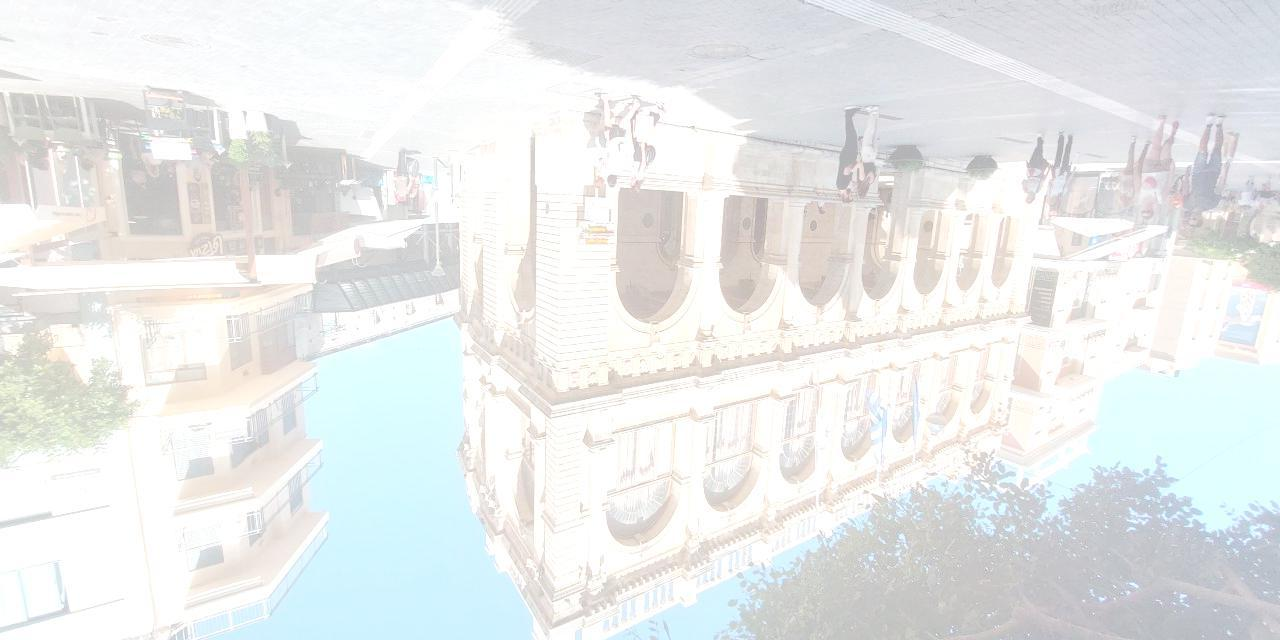Loggia: (440, 105, 1051, 640)
